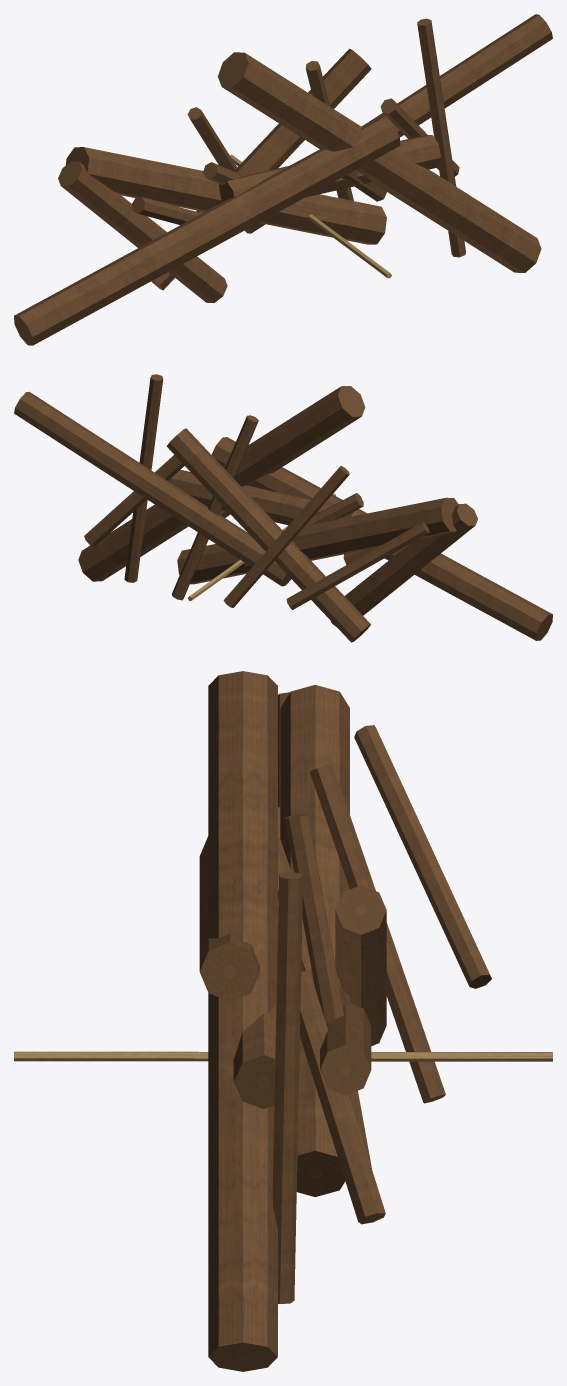
File: en-006_driftwood_cluster__large.obj
3 views of the same model, one above another, from view 1: azimuth 30°, elevation 25°; view 2: azimuth 150°, elevation 25°; view 3: azimuth 270°, elevation 25° (orthographic). The views are drawn at different scales.
Parts seen in each view (by area): view 1: en-006_driftwood_cluster__large; view 2: en-006_driftwood_cluster__large; view 3: en-006_driftwood_cluster__large.
Part boxes in pixels (x1=…): en-006_driftwood_cluster__large: x1=14, y1=14, x2=552, y2=345; en-006_driftwood_cluster__large: x1=14, y1=374, x2=552, y2=642; en-006_driftwood_cluster__large: x1=14, y1=671, x2=552, y2=1371.
Bounding box in the file's own units: 1.92 × 0.9291 × 0.9457.
Materials: 2 (2 with a texture image).
